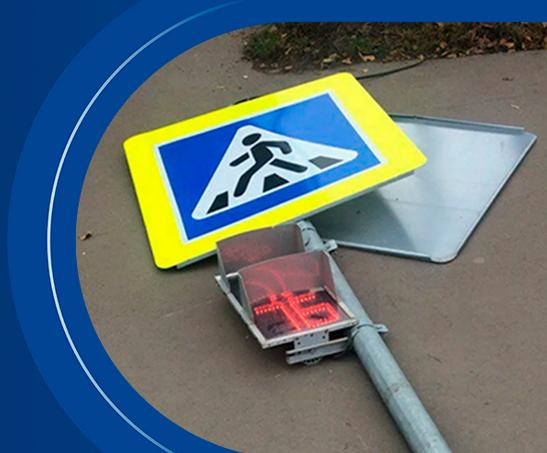road_sign: (125, 73, 425, 268)
traffic light: (216, 224, 357, 364)
